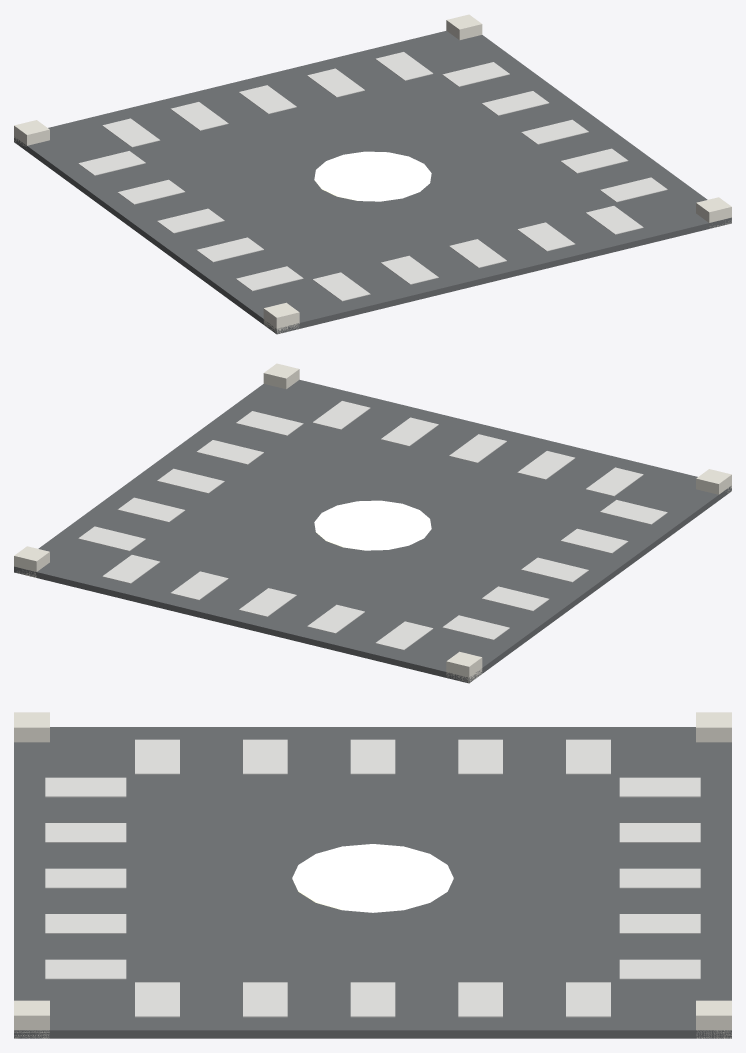
Rendered from ModularRoad_Cross.fbx.
3 renders of one model, top to bottom at view 1: azimuth 30°, elevation 25°; view 2: azimuth 150°, elevation 25°; view 3: azimuth 270°, elevation 25°, orthographic. The views are drawn at different scales.
Parts seen in each view (by area): view 1: Cross_Surface, Center_Emblem, Zebra_E_-1.2, Zebra_E_-0.6, Zebra_E_0.0, Zebra_W_-1.2, Zebra_W_1.2, Zebra_W_0.6, Zebra_W_0.0, Zebra_E_0.6, Zebra_E_1.2, Zebra_W_-0.6 (+14 smaller); view 2: Cross_Surface, Center_Emblem, Zebra_E_1.2, Zebra_E_0.6, Zebra_E_0.0, Zebra_W_-1.2, Zebra_W_1.2, Zebra_W_-0.6, Zebra_W_0.0, Zebra_E_-0.6, Zebra_E_-1.2, Zebra_W_0.6 (+14 smaller); view 3: Cross_Surface, Center_Emblem, Zebra_N_-1.2, Zebra_N_0.0, Zebra_N_1.2, Zebra_S_-1.2, Zebra_S_0.0, Zebra_S_1.2, Zebra_E_0.0, Zebra_W_0.0, Zebra_N_-0.6, Zebra_N_0.6 (+14 smaller).
Boxes of the visible parts, left/top/right/bottom form: Cross_Surface: left=14, top=30, right=731, bottom=334; Center_Emblem: left=314, top=151, right=431, bottom=201; Zebra_E_-1.2: left=600, top=177, right=667, bottom=202; Zebra_E_-0.6: left=560, top=148, right=628, bottom=173; Zebra_E_0.0: left=521, top=119, right=588, bottom=144; Zebra_W_-1.2: left=236, top=266, right=303, bottom=291; Zebra_W_1.2: left=78, top=151, right=145, bottom=175; Zebra_W_0.6: left=117, top=179, right=184, bottom=204; Zebra_W_0.0: left=157, top=208, right=224, bottom=233; Zebra_E_0.6: left=482, top=91, right=548, bottom=115; Zebra_E_1.2: left=442, top=62, right=509, bottom=86; Zebra_W_-0.6: left=196, top=237, right=263, bottom=262; Cross_Surface: left=14, top=379, right=731, bottom=683; Center_Emblem: left=314, top=500, right=431, bottom=550; Zebra_E_1.2: left=78, top=526, right=145, bottom=551; Zebra_E_0.6: left=117, top=497, right=185, bottom=522; Zebra_E_0.0: left=157, top=468, right=224, bottom=493; Zebra_W_-1.2: left=600, top=500, right=667, bottom=524; Zebra_W_1.2: left=442, top=615, right=509, bottom=640; Zebra_W_-0.6: left=561, top=528, right=628, bottom=553; Zebra_W_0.0: left=521, top=557, right=588, bottom=582; Zebra_E_-0.6: left=197, top=440, right=263, bottom=464; Zebra_E_-1.2: left=236, top=411, right=303, bottom=435; Zebra_W_0.6: left=482, top=586, right=549, bottom=611; Cross_Surface: left=14, top=727, right=731, bottom=1038; Center_Emblem: left=292, top=844, right=453, bottom=912; Zebra_N_-1.2: left=619, top=777, right=700, bottom=797; Zebra_N_0.0: left=619, top=868, right=700, bottom=888; Zebra_N_1.2: left=619, top=959, right=700, bottom=979; Zebra_S_-1.2: left=45, top=777, right=126, bottom=797; Zebra_S_0.0: left=45, top=868, right=126, bottom=888; Zebra_S_1.2: left=45, top=959, right=126, bottom=979; Zebra_E_0.0: left=350, top=982, right=395, bottom=1017; Zebra_W_0.0: left=350, top=739, right=395, bottom=774; Zebra_N_-0.6: left=619, top=823, right=700, bottom=842; Zebra_N_0.6: left=619, top=914, right=700, bottom=933.
Size of the model in its own units: 400 by 14 by 400.
